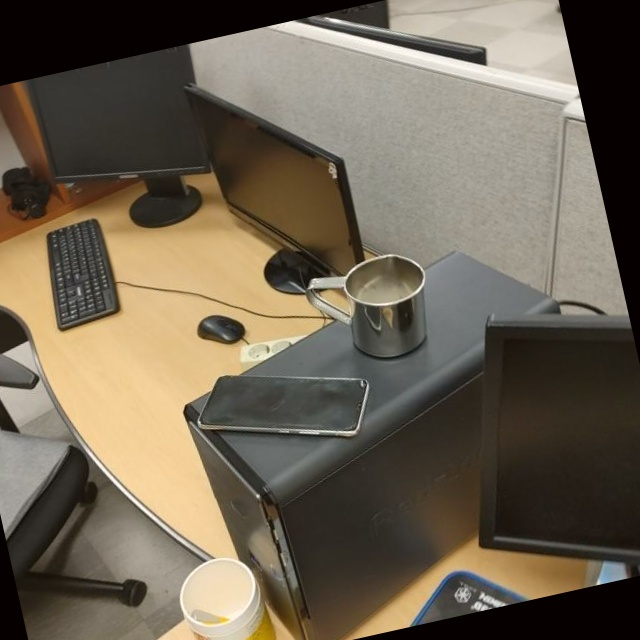cup: (299, 246, 440, 377)
phone: (190, 342, 381, 469)
